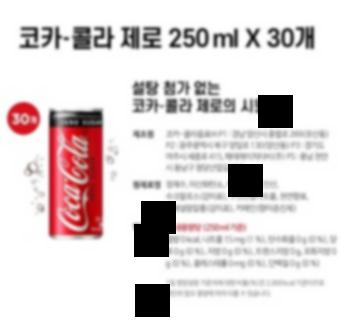cocacola_zero: (46, 106, 105, 242)
